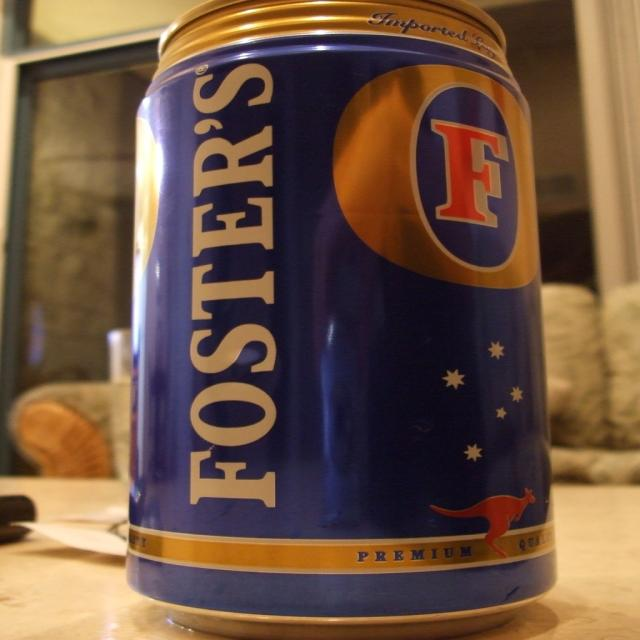fosters: (332, 62, 544, 292)
